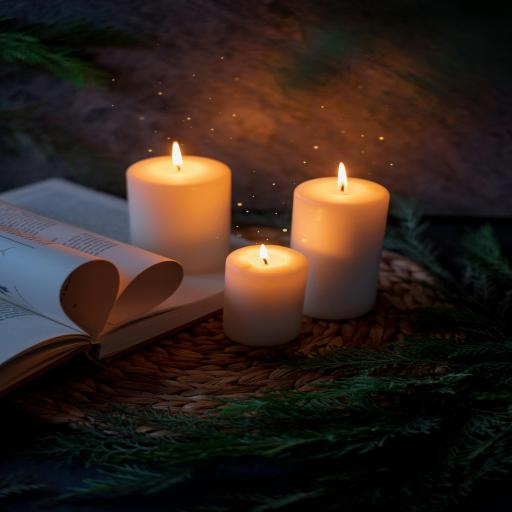candlelight: (292, 146, 393, 324), (113, 134, 238, 268), (210, 238, 310, 346)
